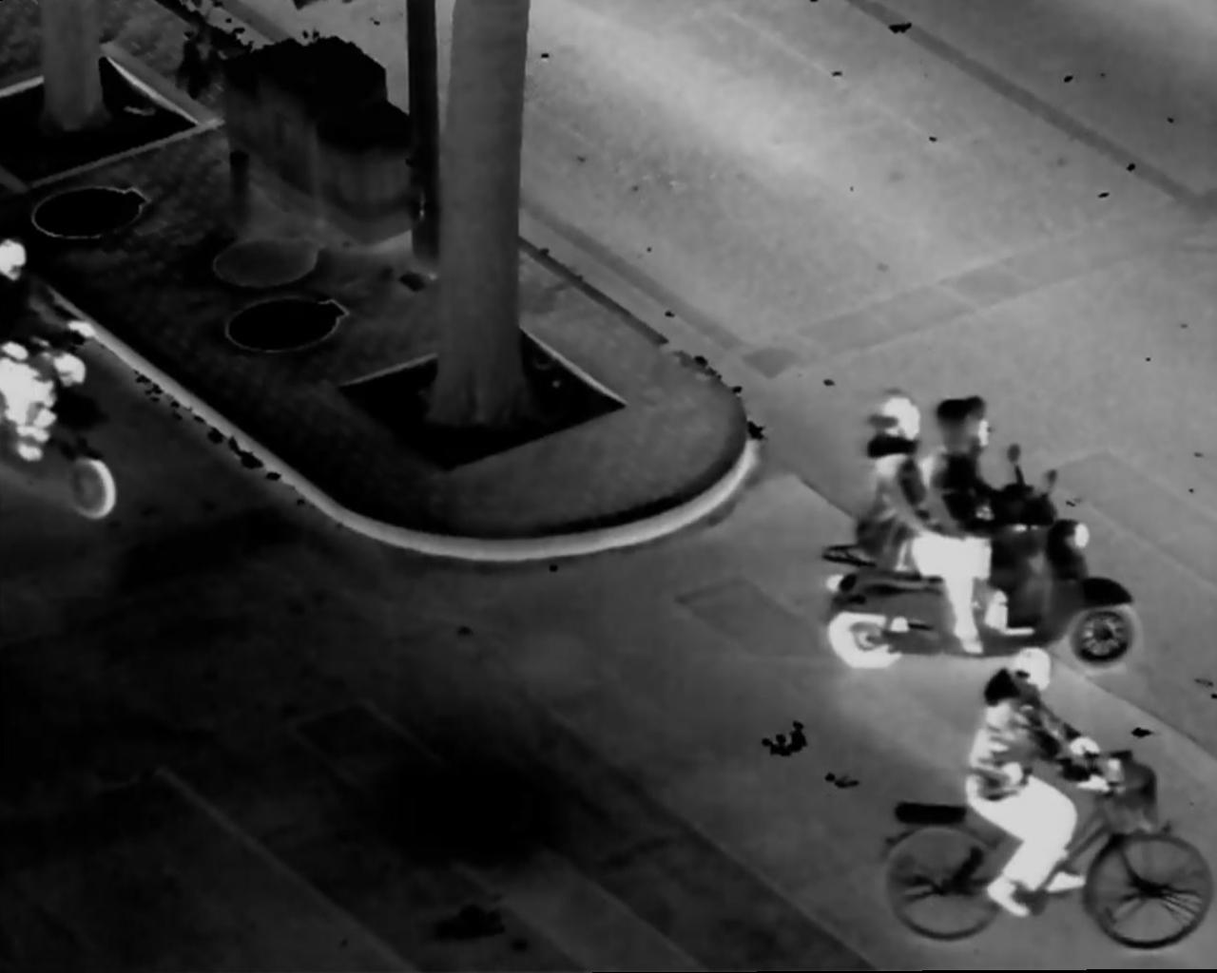person: (960, 649, 1109, 916), (942, 409, 1054, 637), (865, 387, 944, 651)
